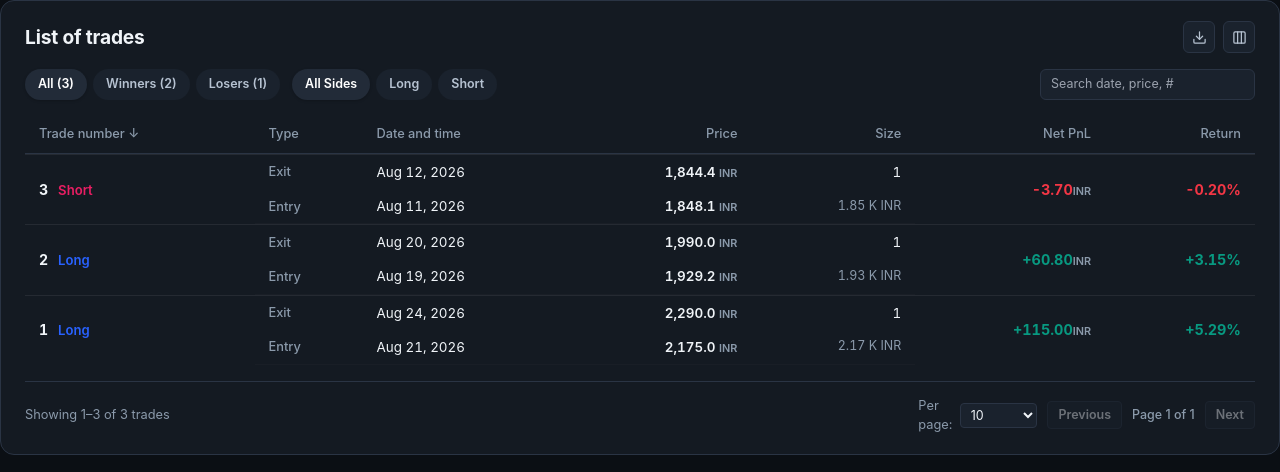
Test case: TradingView Backtest Overview Components › TvListOfTrades › renders 2-subrow trades table with sorting, filters, pagination, and columns
expect the heading "List of trades" is shown: met, box [25, 23, 145, 51]
expect the column heading "Trade number ↓" is shown: met, box [25, 114, 254, 154]
// Filter to Winners
Click the button "Winners (2)" at (141, 84), box [93, 69, 190, 100]
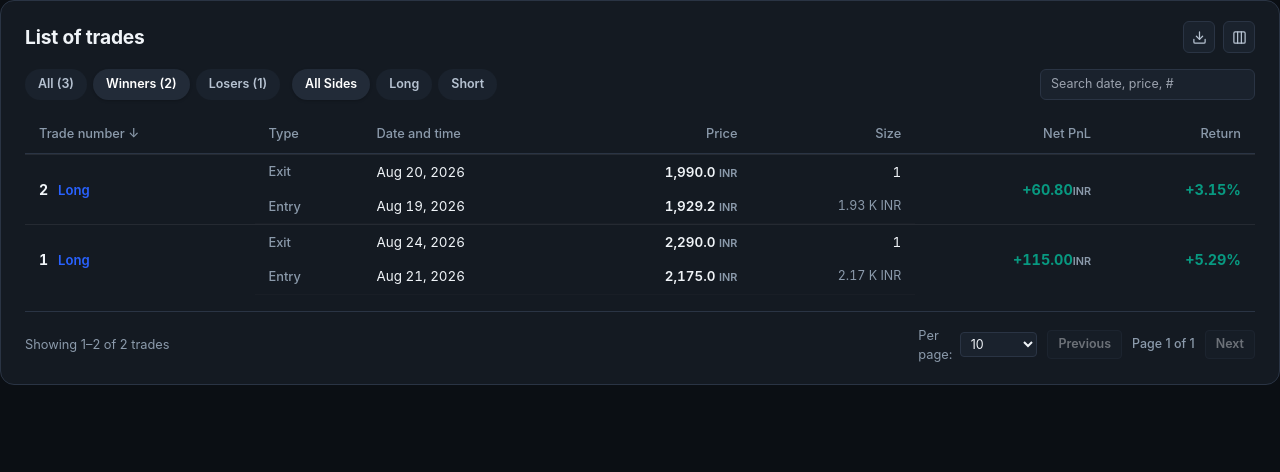
expect the text "+115.00" is shown: met, box [1013, 251, 1073, 268]
expect the text "-3.70" is gone: met
// Filter to Losers
Click the button "Losers (1)" at (238, 84), box [196, 69, 280, 100]
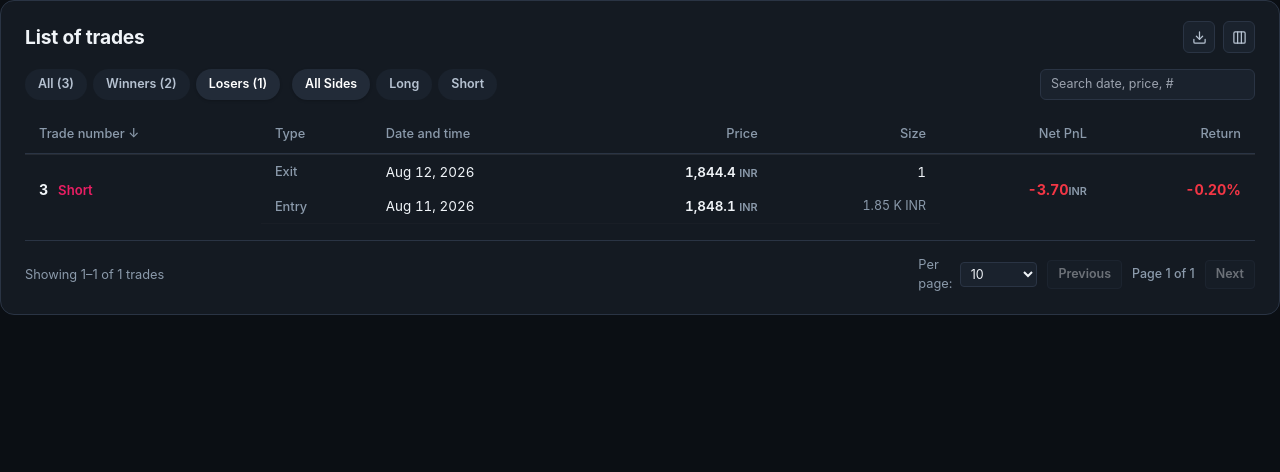
expect the text "-3.70" is shown: met, box [1028, 181, 1069, 198]
expect the text "+115.00" is gone: met
